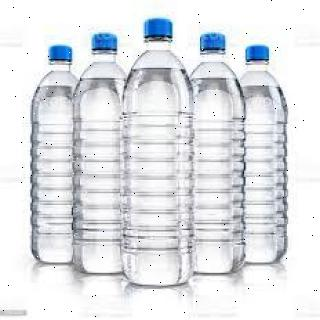Plastic-bottle: (120, 16, 200, 289), (72, 32, 137, 278), (190, 31, 251, 278), (27, 43, 87, 267), (240, 43, 292, 270)
